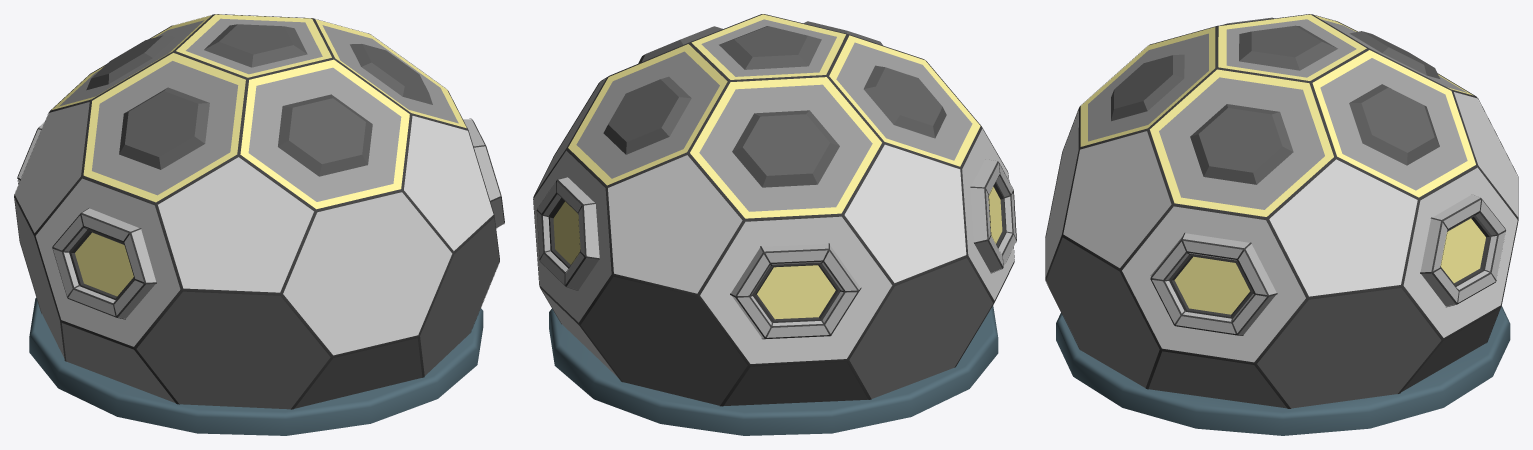
File: spherical_building_002.fbx
The picture shows the model from 3 angles, left to right: view 1: azimuth 30°, elevation 25°; view 2: azimuth 150°, elevation 25°; view 3: azimuth 270°, elevation 25°; orthographic projection.
Parts seen in each view (by area): view 1: spherical_building_002; view 2: spherical_building_002; view 3: spherical_building_002.
Part boxes in pixels (x1,y1,x2,y2): spherical_building_002: (14,14,504,435); spherical_building_002: (533,14,1016,435); spherical_building_002: (1045,14,1518,435).
Bounding box in the file's own units: 1072 × 1048 × 731.
